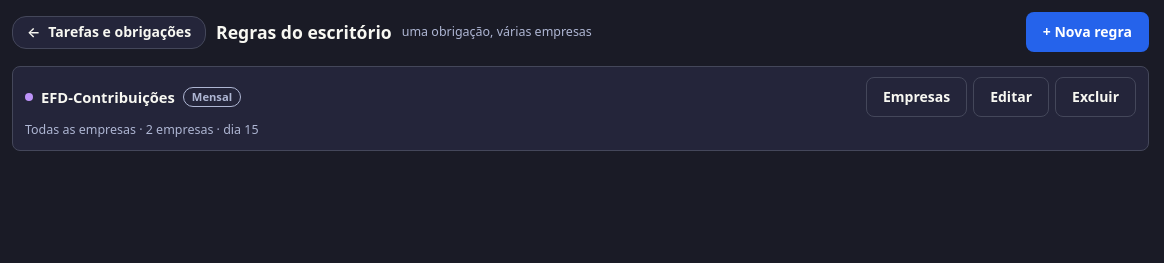
Test: tirar da regra — a pergunta › o aviso conta qual desfecho o SERVIDOR aplicou — a tela não adivinha por ele
The image size is (1164, 263).
Expected: the text "EFD-Contribuições" is shown, [41,86,175,108]
What coordinates should you click on to do the following:
click the button "Empresas"
I would click on:
 (917, 97)
Its box is [866,77,967,117].
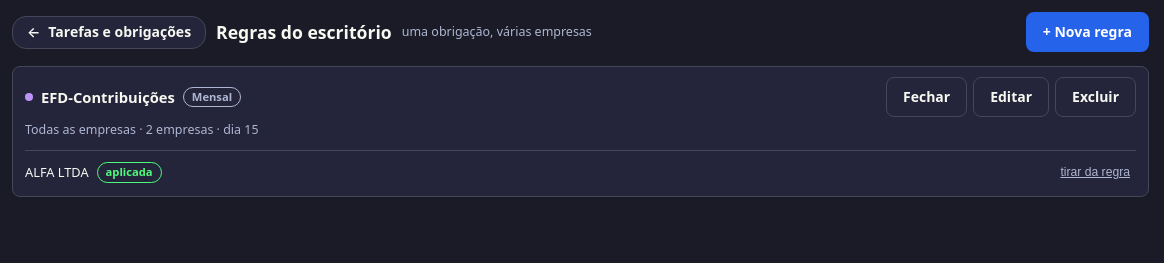
What coordinates should you click on to do the following:
click the button "tirar da regra"
I would click on:
 (1095, 172)
Its box is [1054,164,1136,180].
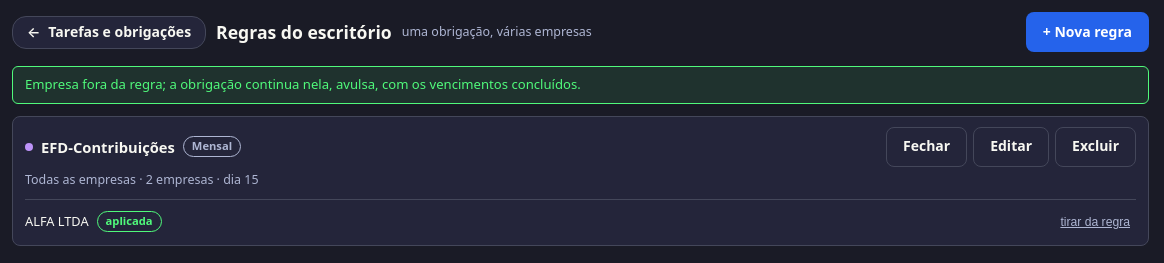
Now the text "continua nela, avulsa, com os vencimentos concluídos" is shown, box [25,75,581,93]
